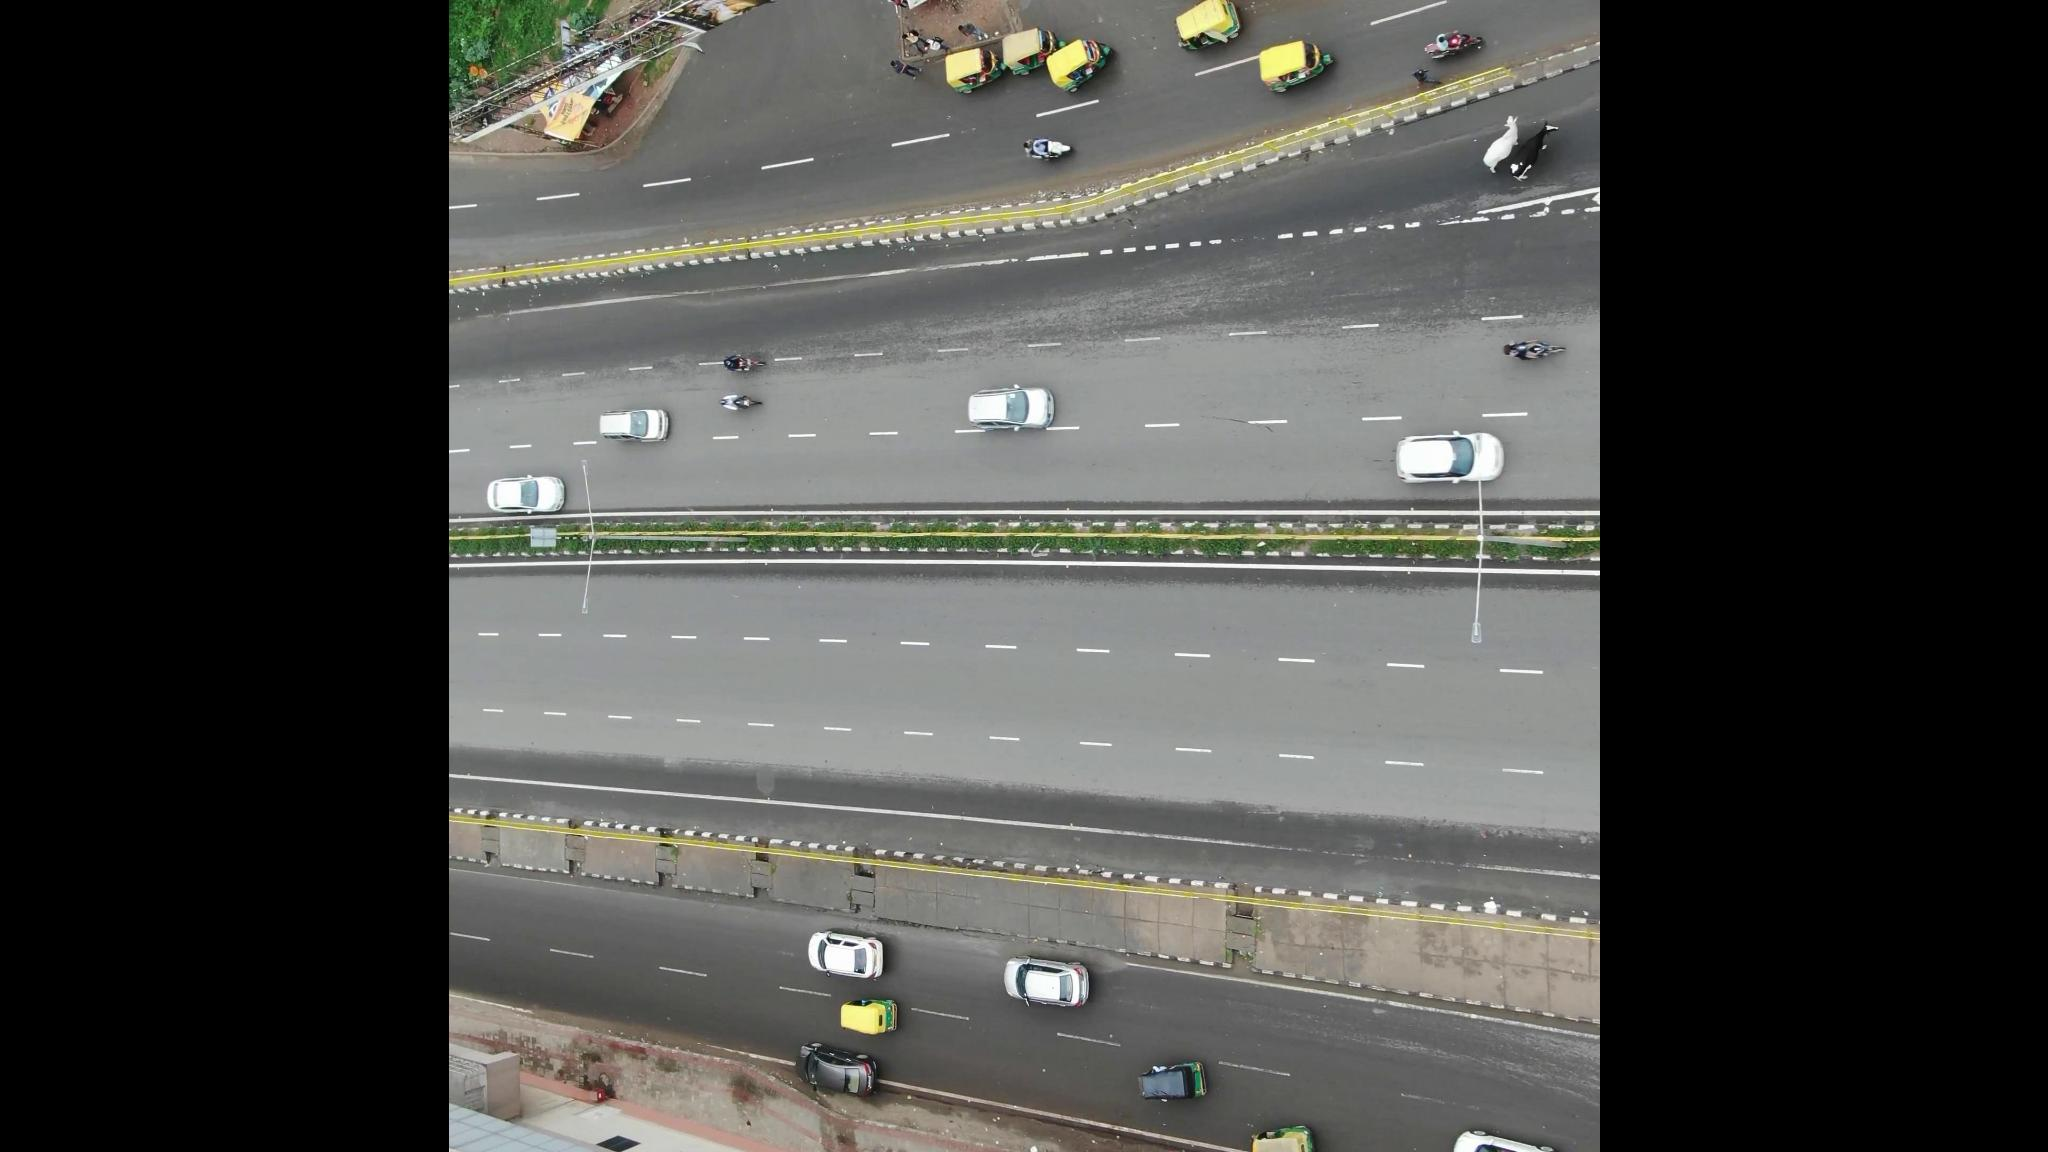Waterlogging: (617, 239, 911, 309), (450, 279, 591, 326)
